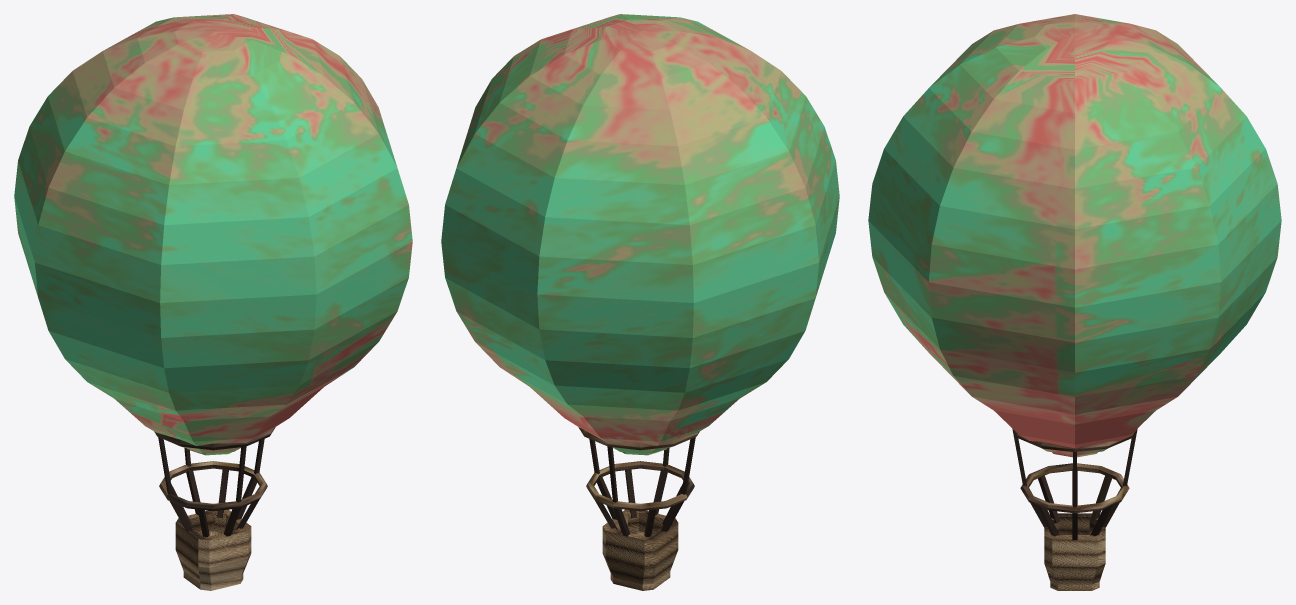
The model's file is hot-air-balloon_1.fbx.
3 views of the same model, side by side, from view 1: azimuth 30°, elevation 25°; view 2: azimuth 150°, elevation 25°; view 3: azimuth 270°, elevation 25° (orthographic).
Visible parts, largest first — view 1: Torus.000; view 2: Torus.000; view 3: Torus.000.
Boxes of the visible parts, left/top/right/bottom form: Torus.000: left=14, top=14, right=412, bottom=590; Torus.000: left=441, top=14, right=839, bottom=590; Torus.000: left=868, top=14, right=1281, bottom=590.
Size of the model in its own units: 200 by 292 by 200.
